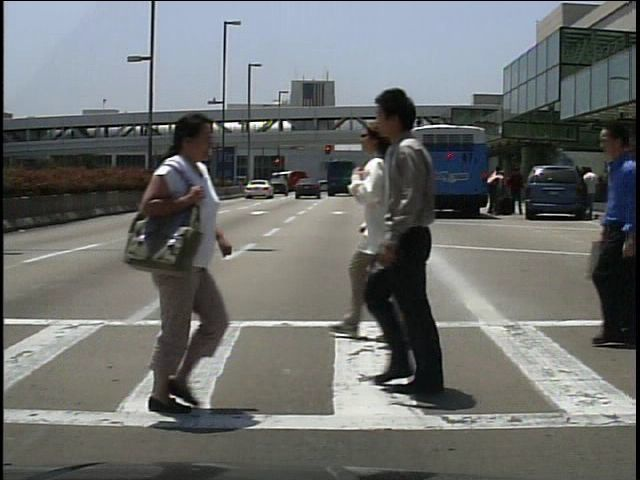person: (340, 86, 475, 398), (112, 118, 247, 418), (327, 117, 449, 358), (485, 162, 503, 214), (508, 166, 526, 216), (585, 168, 602, 218)
